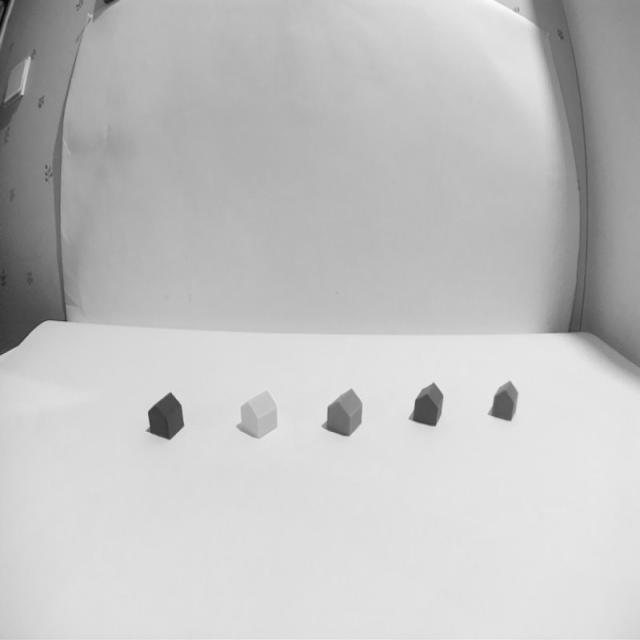home: (239, 390, 279, 439), (325, 388, 362, 436), (148, 392, 184, 440), (411, 382, 445, 426), (489, 380, 519, 421)
